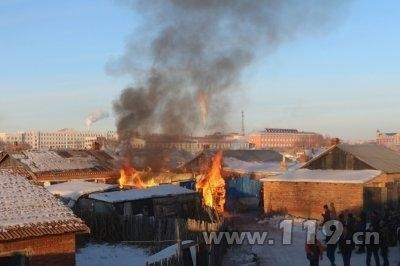fire: (118, 150, 229, 214)
